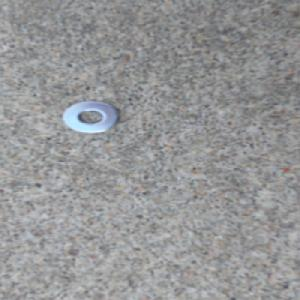Washer: (57, 98, 124, 136)
